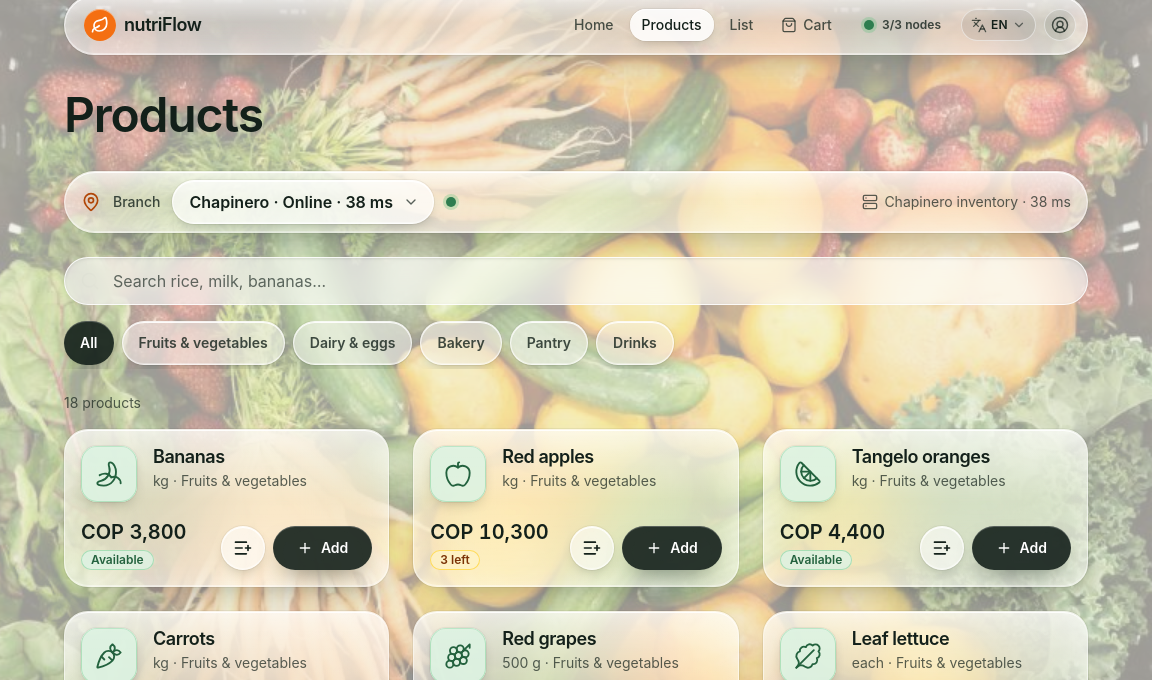
Test: Shopping list and cart › builds a list and moves what is missing to the cart
Expected: the text "18 products" is shown, [64,394,141,411]
Click the button named "Add Bananas to the list".
click(243, 548)  # box [221,526,265,570]
(page scrolled)
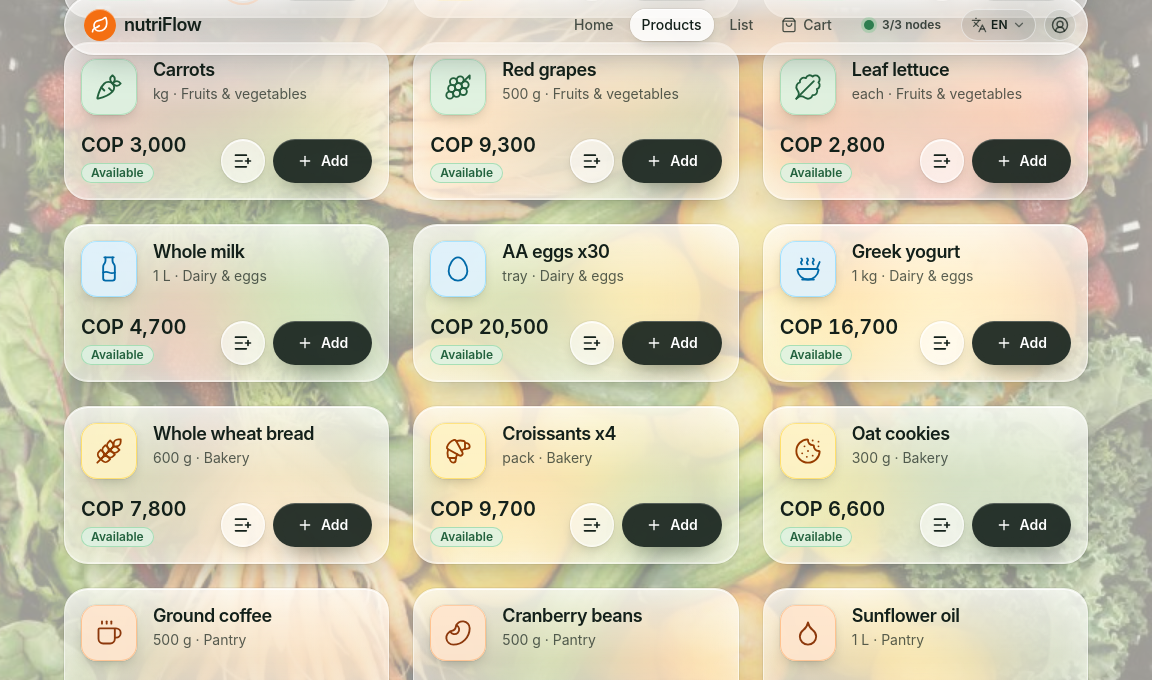
Click the button named "Add Whole milk to the list".
click(243, 343)  # box [221,321,265,365]
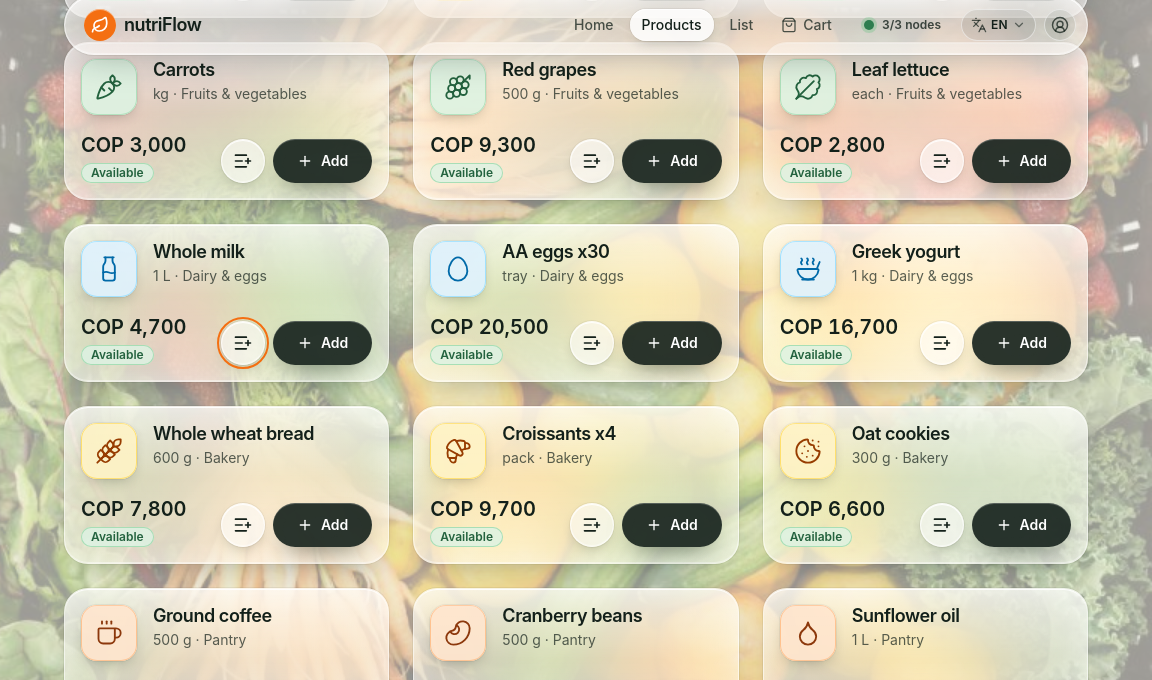
Click the link "List".
click(741, 24)  # box [730,16,753,33]
(page scrolled)
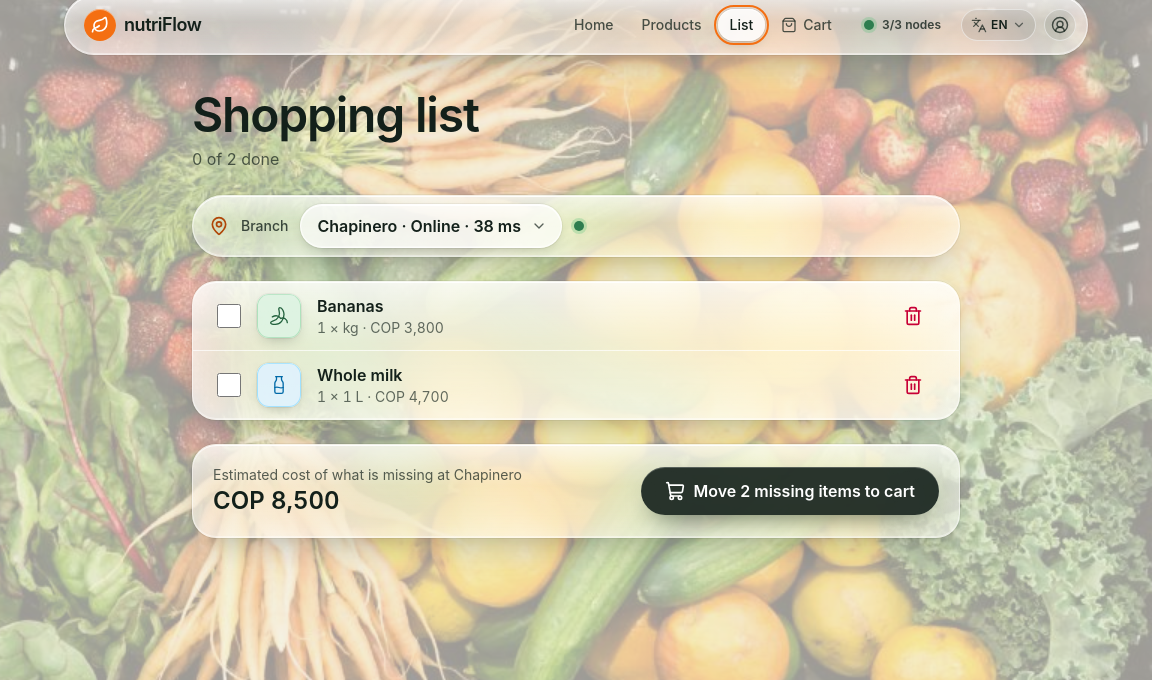
Expected: the text with test id "list-progress" reads "0 of 2 done", [192,149,279,169]
Click the checkbox named "Already have it: Whole milk".
click(229, 385)  # box [217,373,241,397]
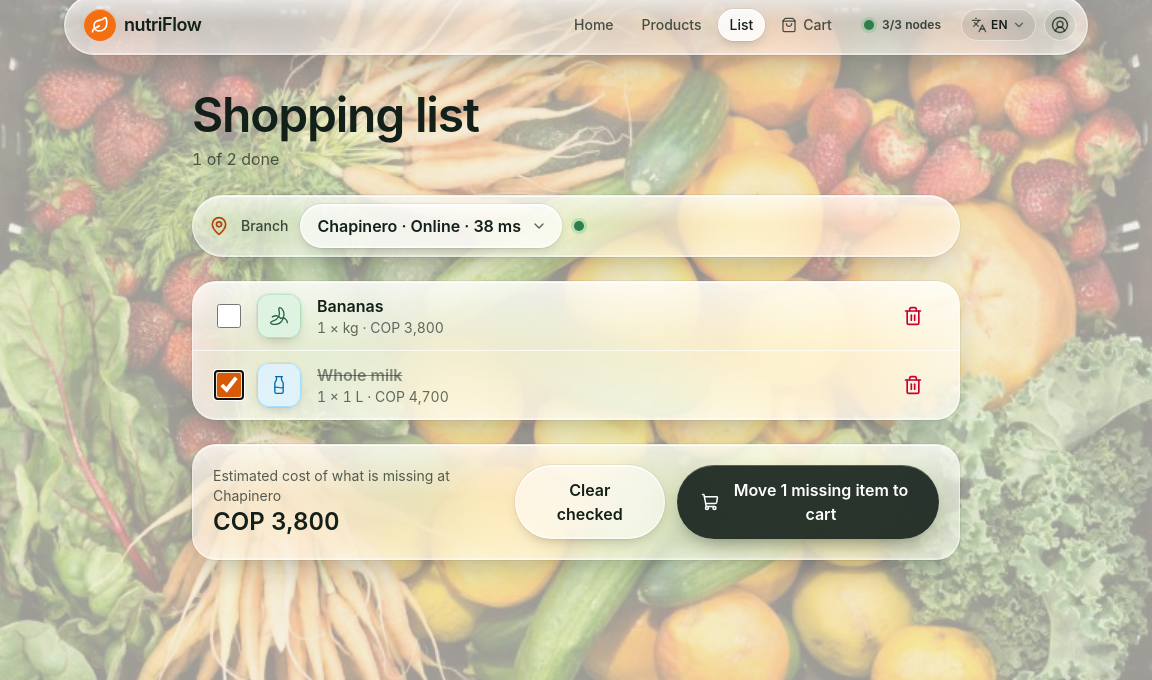
Expected: the text with test id "list-progress" reads "1 of 2 done", [192,149,279,169]
Expected: the text with test id "list-estimate" reads "COP 3,800", [213,507,340,536]
Click the button "Move 1 missing item to cart".
click(808, 502)  # box [677,465,939,539]
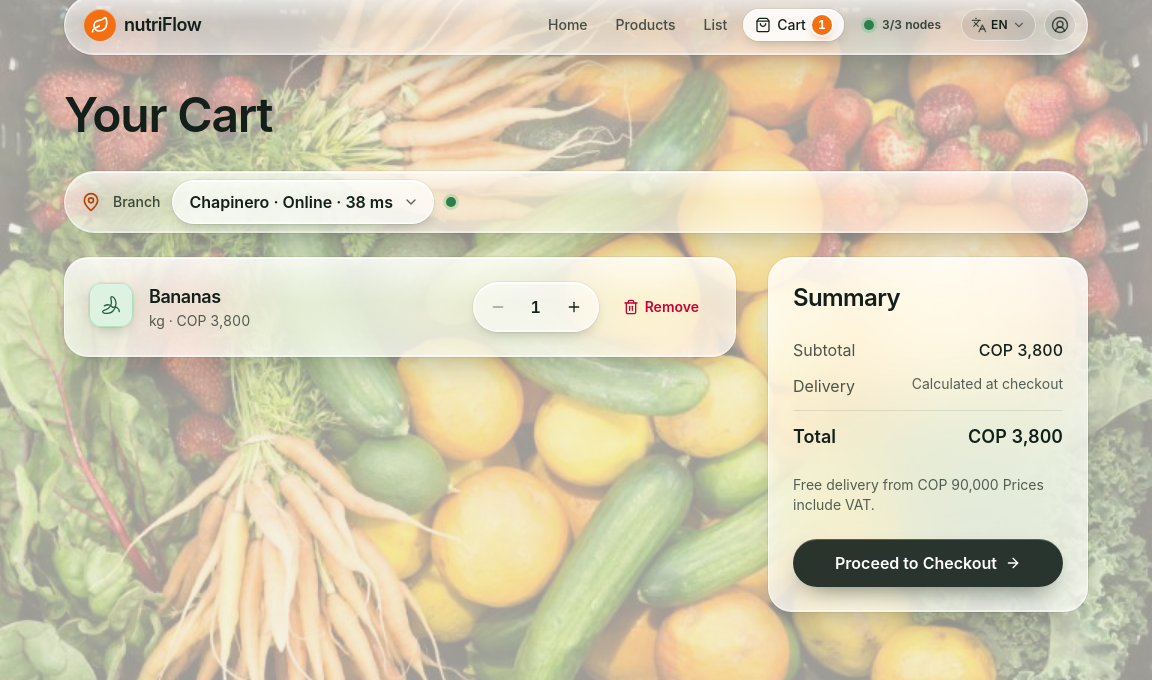
Expected: the text named "Quantity of Bananas" reads "1", [530,297,541,317]
Expected: the heading "Your Cart" is shown, [64,85,272,144]
Expected: the link named "Cart, 1 item" is shown, [743,9,844,41]
